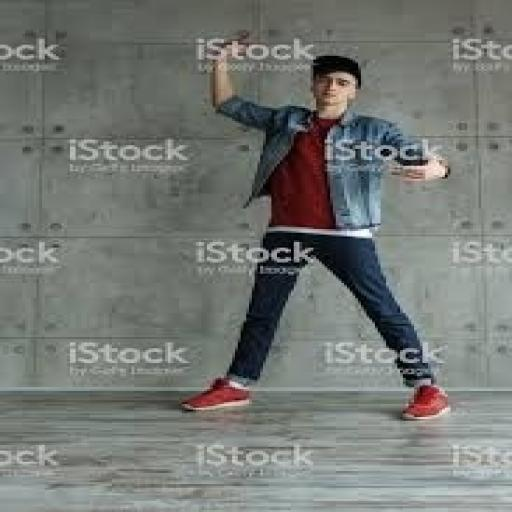dancing: (176, 32, 454, 422)
